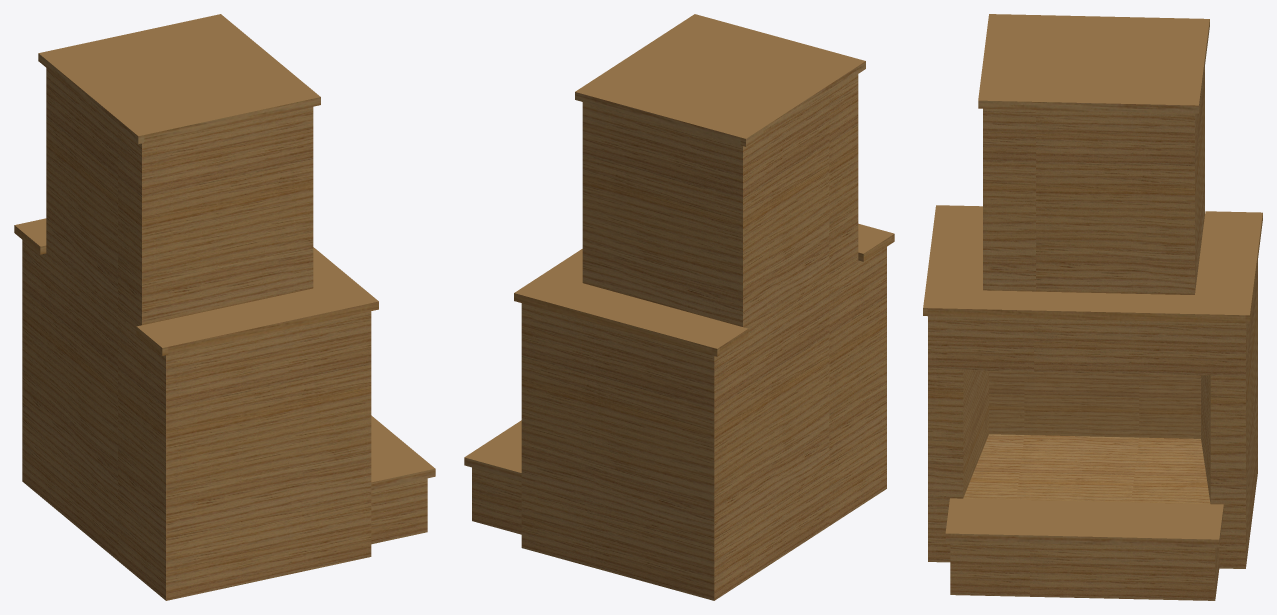
File: chimenea.obj
The picture shows the model from 3 angles, left to right: view 1: azimuth 30°, elevation 25°; view 2: azimuth 150°, elevation 25°; view 3: azimuth 270°, elevation 25°; orthographic projection.
Parts seen in each view (by area): view 1: Layer0_001; view 2: Layer0_001; view 3: Layer0_001.
Boxes of the visible parts, x1,y1,x2,y2 form: Layer0_001: (14,14,435,600); Layer0_001: (464,14,894,600); Layer0_001: (923,14,1262,600).
Size of the model in its own units: 28.14 by 41.46 by 28.44.
Materials: 1 (1 with a texture image).
